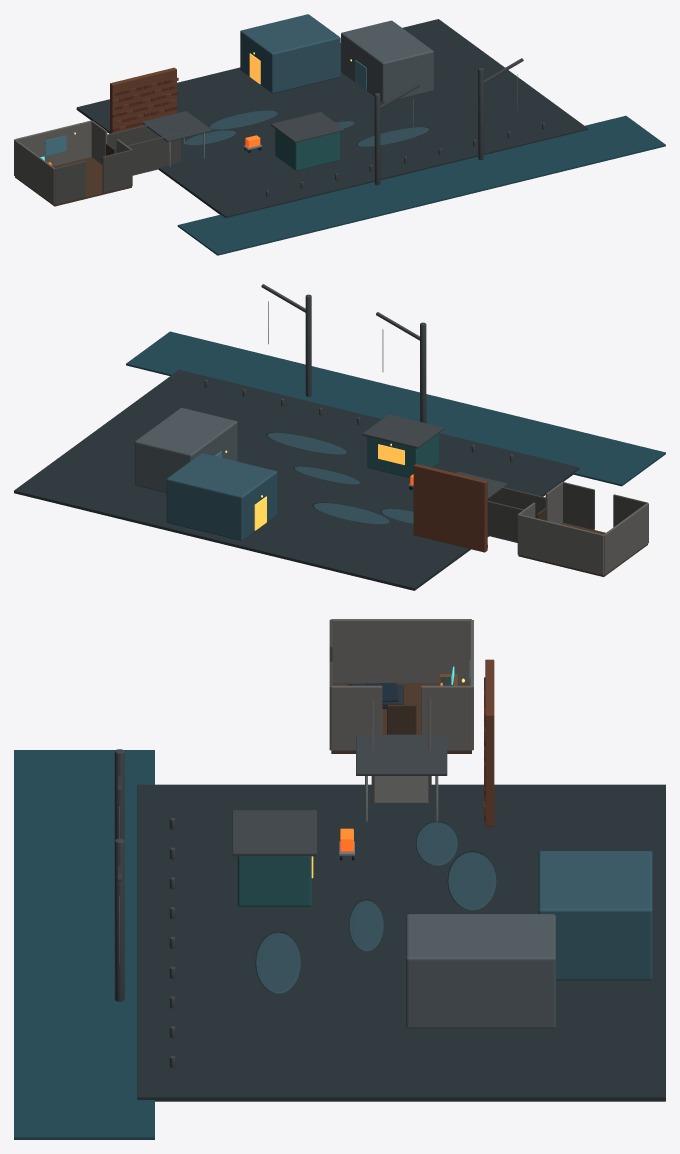
Rendered from isso-v3-vertical-slice-v1.glb.
The picture shows the model from 3 angles, top to bottom: view 1: azimuth 30°, elevation 25°; view 2: azimuth 150°, elevation 25°; view 3: azimuth 270°, elevation 25°; orthographic projection. The views are drawn at different scales.
Visible parts, largest first — view 1: harbor_ground, harbor_water, signalwerk_shell, station_shell, facade, kiosk_body, room_wall_back, room_wall_left, hall_wall_b, kiosk_roof, awning, room_wall_front_a (+9 smaller); view 2: harbor_ground, harbor_water, signalwerk_shell, facade, station_shell, room_wall_back, room_wall_left, kiosk_body, kiosk_roof, room_wall_front_b, hall_wall_a, puddle_1 (+7 smaller); view 3: harbor_ground, harbor_water, station_shell, signalwerk_shell, room_wall_left, kiosk_roof, kiosk_body, awning, room_wall_door_b, room_wall_door_a, puddle_1, puddle_3 (+8 smaller).
Boxes of the visible parts, x1,y1,x2,y2 form: harbor_ground: [76, 19, 587, 217]; harbor_water: [177, 115, 665, 255]; signalwerk_shell: [240, 14, 340, 93]; station_shell: [341, 20, 433, 103]; facade: [110, 67, 176, 133]; kiosk_body: [275, 129, 340, 170]; room_wall_back: [14, 120, 91, 166]; room_wall_left: [14, 139, 54, 204]; hall_wall_b: [127, 132, 180, 174]; kiosk_roof: [271, 112, 344, 142]; awning: [141, 111, 212, 141]; room_wall_front_a: [54, 161, 85, 204]; harbor_ground: [14, 369, 579, 590]; harbor_water: [126, 331, 665, 486]; signalwerk_shell: [166, 453, 277, 540]; facade: [413, 463, 487, 552]; station_shell: [134, 407, 237, 493]; room_wall_back: [517, 514, 603, 575]; room_wall_left: [604, 503, 648, 574]; kiosk_body: [367, 433, 439, 478]; kiosk_roof: [362, 414, 443, 448]; room_wall_front_b: [562, 482, 594, 529]; hall_wall_a: [487, 501, 523, 541]; puddle_1: [312, 502, 389, 524]; harbor_ground: [137, 784, 665, 1101]; harbor_water: [14, 750, 154, 1139]; station_shell: [406, 914, 555, 1028]; signalwerk_shell: [538, 851, 652, 980]; room_wall_left: [331, 619, 471, 683]; kiosk_roof: [232, 810, 316, 856]; kiosk_body: [237, 856, 311, 906]; awning: [356, 734, 447, 775]; room_wall_door_b: [331, 685, 382, 750]; room_wall_door_a: [421, 685, 471, 750]; puddle_1: [447, 851, 496, 910]; puddle_3: [255, 931, 301, 993].
Size of the model in its own units: 60.61 by 10.39 by 37.
